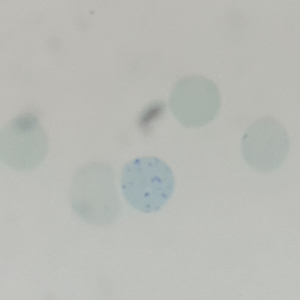erythrocyte: (67, 158, 123, 226), (164, 73, 224, 130), (1, 110, 50, 170)
punctate reticulocyte: (117, 155, 177, 215), (239, 113, 292, 172)
